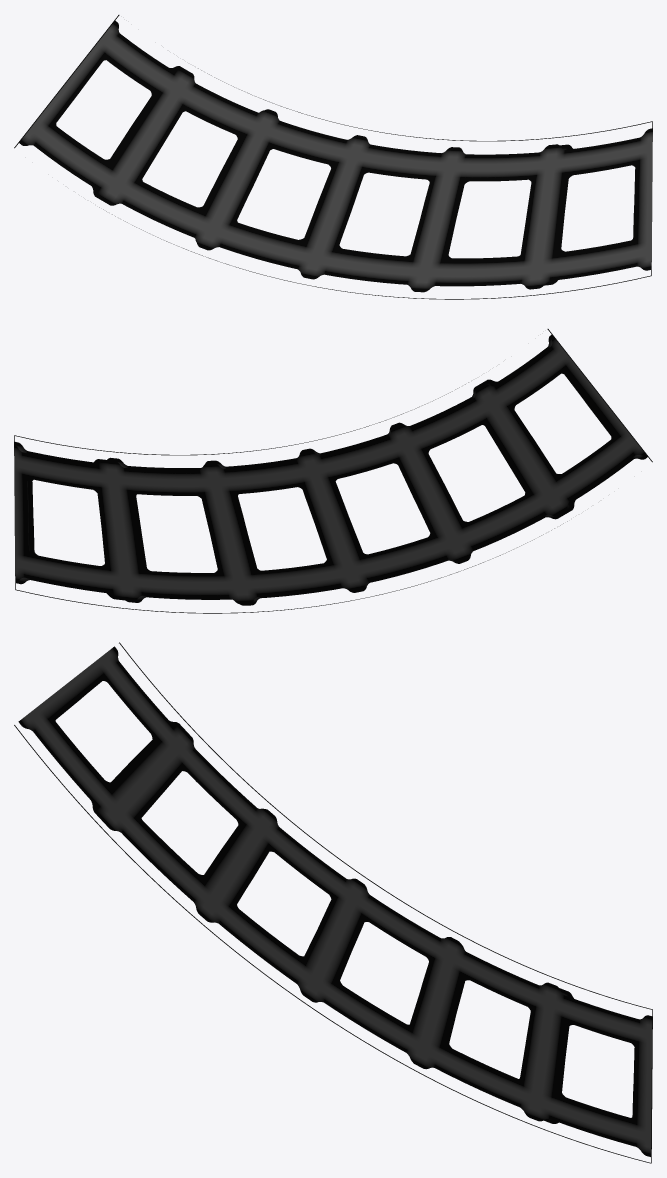
The model's file is rails_curve_45.obj.
3 views of the same model, one above another, from view 1: azimuth 30°, elevation 25°; view 2: azimuth 150°, elevation 25°; view 3: azimuth 330°, elevation 25° (orthographic).
Visible parts, largest first — view 1: Cube; view 2: Cube; view 3: Cube.
Boxes of the visible parts, x1,y1,x2,y2 form: Cube: (14,15,652,299); Cube: (14,329,652,613); Cube: (14,642,652,1163).
Bounding box in the file's own units: 7.63 × 4.46 × 0.0142.
Materials: 3 (2 with a texture image).
